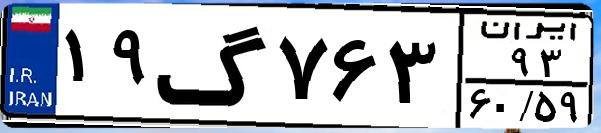0: (495, 70, 520, 125)
1: (57, 26, 110, 100)
3: (385, 28, 445, 110), (537, 27, 568, 80)
5: (535, 70, 560, 125)
6: (330, 28, 385, 110), (470, 70, 495, 125)
7: (270, 28, 330, 110)
9: (110, 28, 156, 98), (560, 70, 590, 125), (508, 27, 537, 80)
گ: (156, 12, 270, 120)
